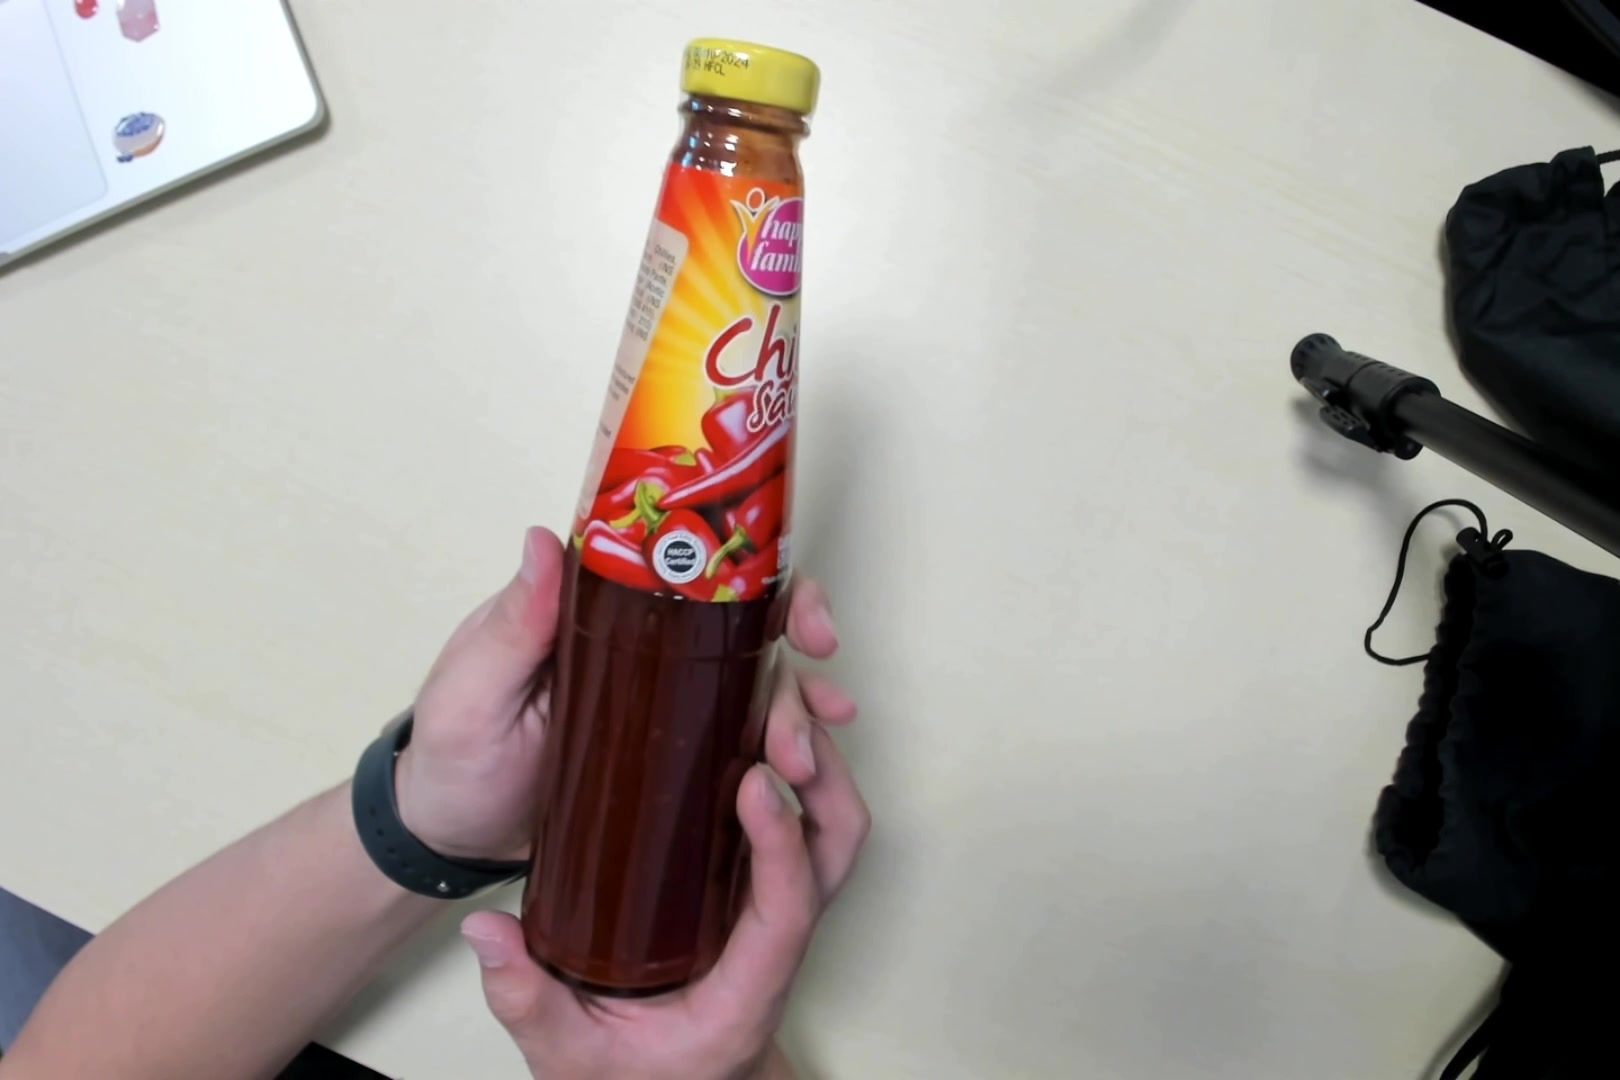KetchupChillSauce_500-599g_Halal_NonHealthy: (523, 29, 828, 1008)
